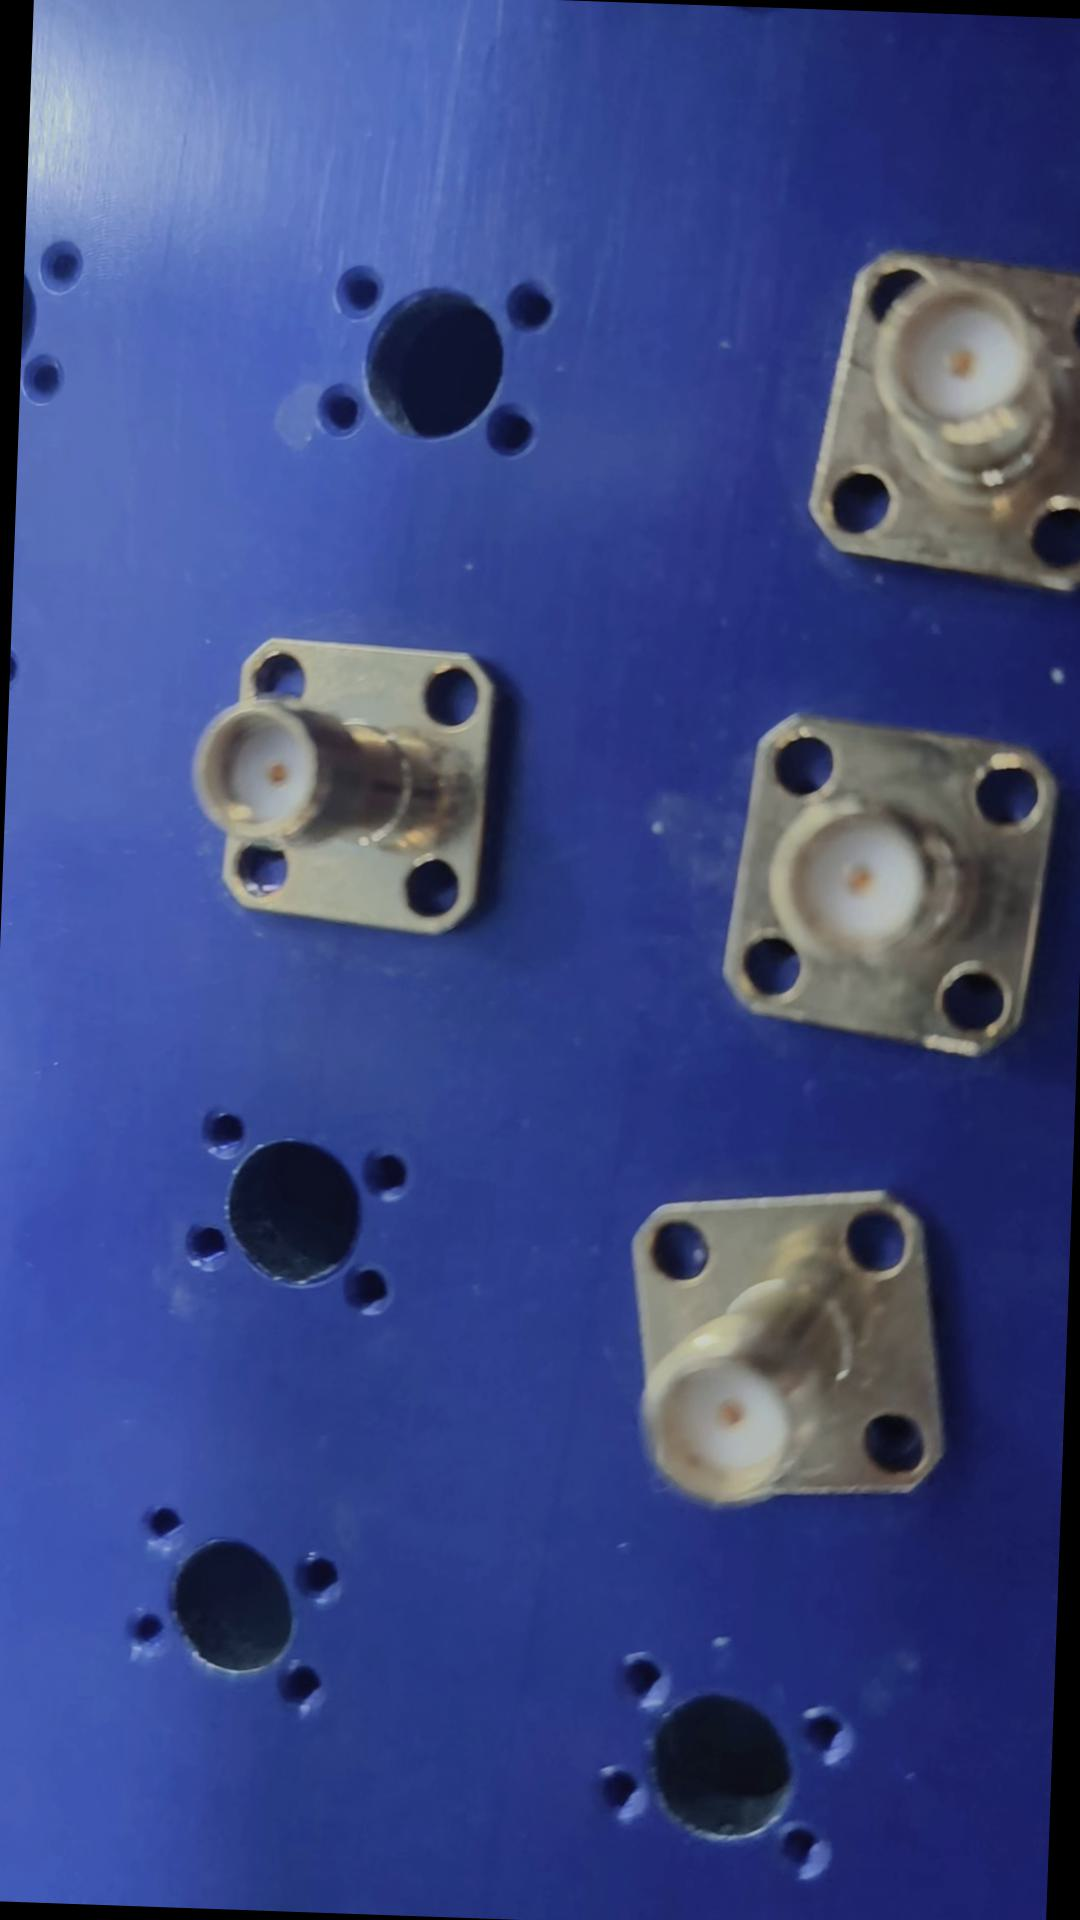SMA: (715, 716, 1054, 1059), (596, 1188, 960, 1505), (189, 618, 514, 944), (793, 243, 1079, 603)
